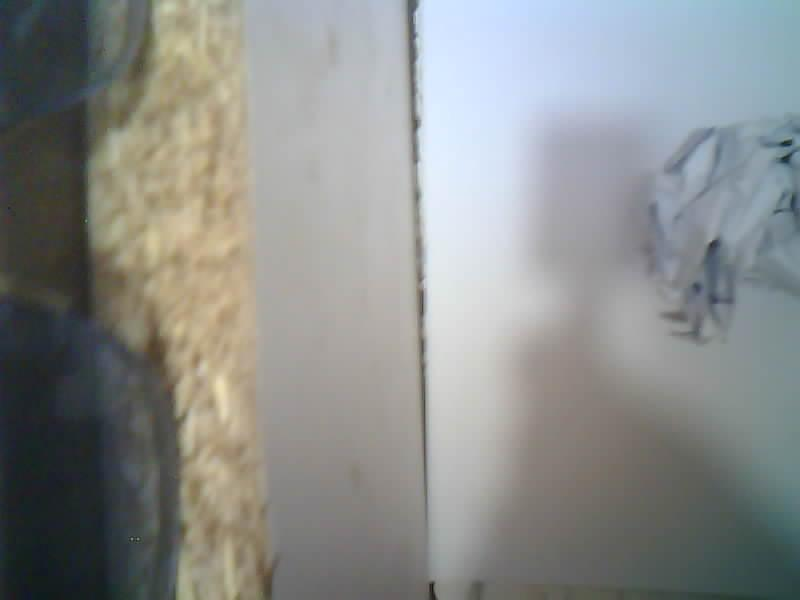biodegradable: (646, 114, 799, 340)
